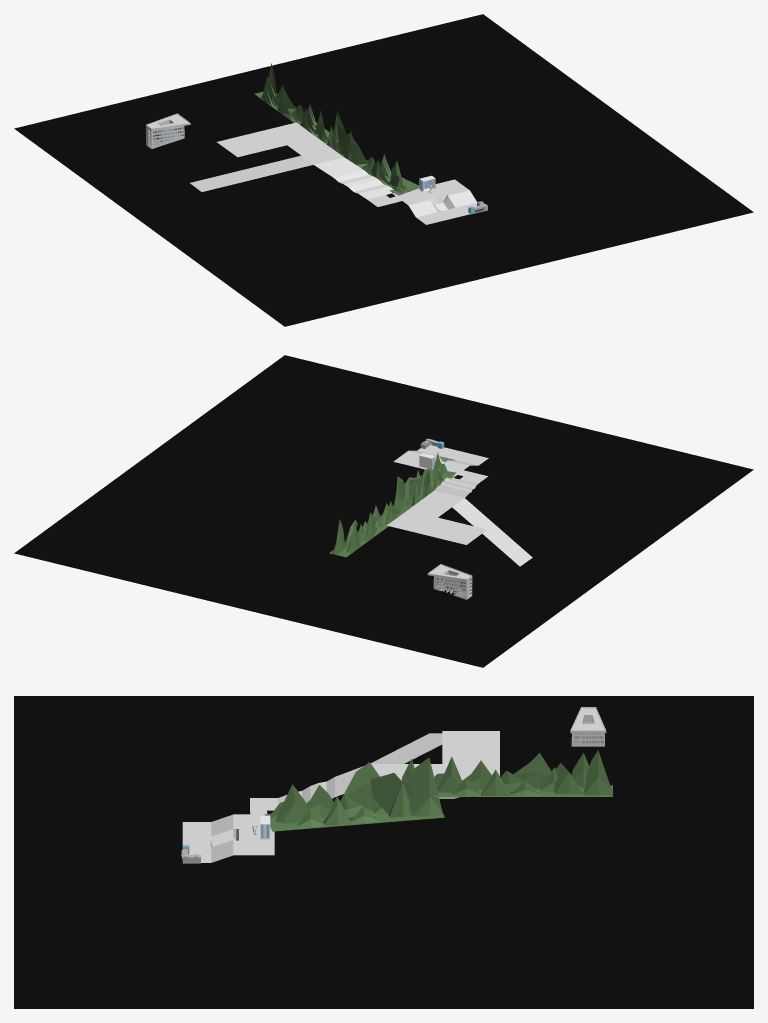
The model's file is map.glb.
The picture shows the model from 3 angles, top to bottom: view 1: azimuth 30°, elevation 25°; view 2: azimuth 150°, elevation 25°; view 3: azimuth 270°, elevation 25°; orthographic projection. The views are drawn at different scales.
Visible parts, largest first — view 1: ground, Plane, mountain.001, mountain, ai; view 2: ground, Plane, mountain, mountain.001, ai; view 3: ground, Plane, mountain.001, mountain, ai.
Boxes of the visible parts, x1,y1,x2,y2 form: ground: [14, 14, 753, 326]; Plane: [190, 122, 482, 224]; mountain.001: [327, 111, 419, 195]; mountain: [254, 63, 338, 144]; ai: [146, 113, 190, 148]; ground: [14, 355, 753, 667]; Plane: [387, 444, 532, 566]; mountain: [329, 487, 412, 557]; mountain.001: [396, 452, 455, 505]; ai: [427, 564, 472, 599]; ground: [14, 696, 753, 1008]; Plane: [182, 731, 499, 862]; mountain.001: [264, 757, 444, 831]; mountain: [432, 750, 612, 796]; ai: [570, 707, 606, 746].
Bounding box in the file's own units: 508 × 60.57 × 508.
